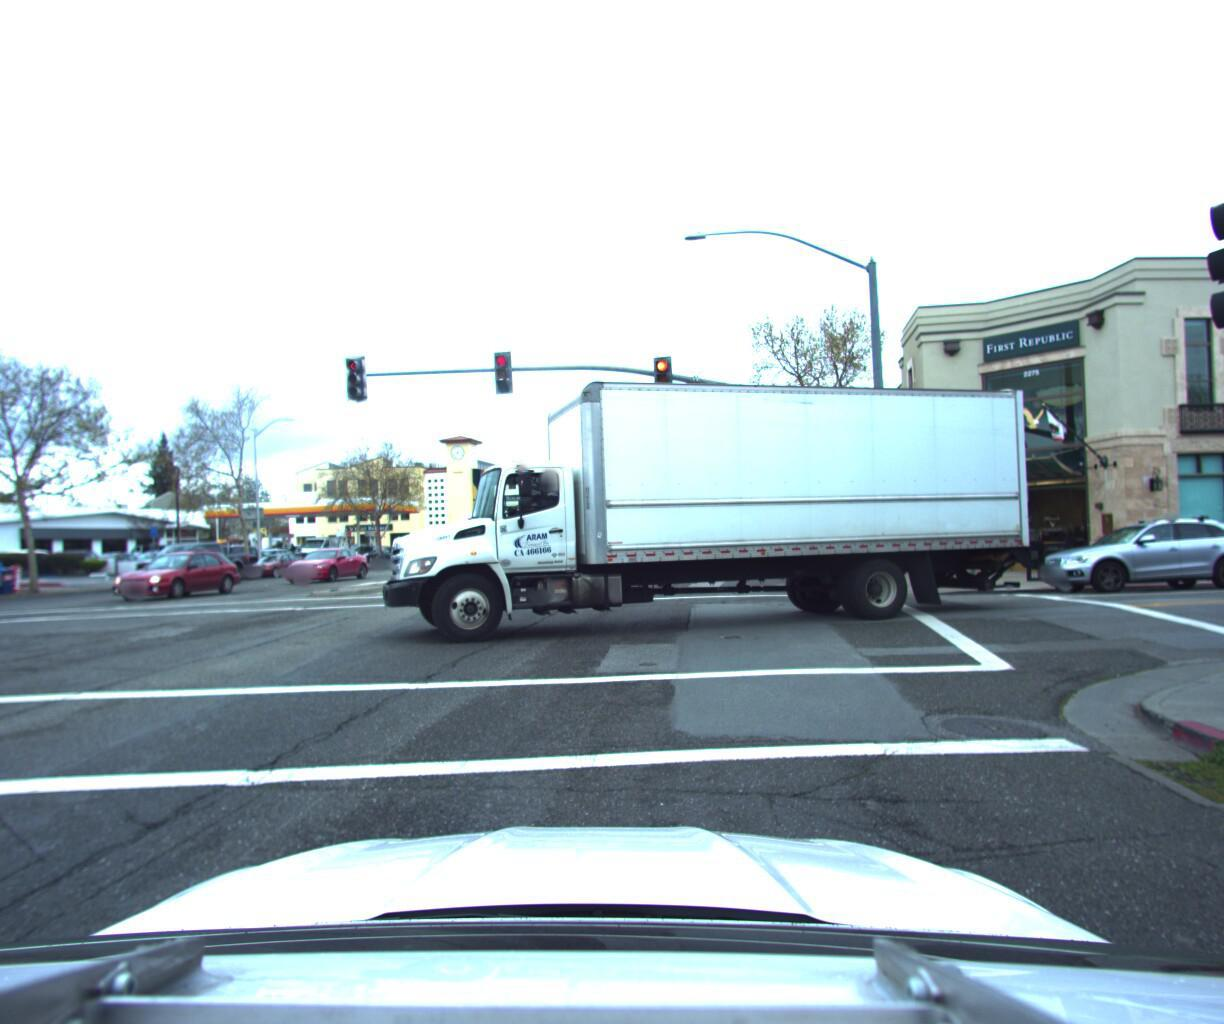car: (1020, 519, 1224, 602), (110, 554, 251, 608), (146, 552, 266, 596), (277, 552, 378, 592), (241, 559, 314, 588), (112, 547, 181, 575), (206, 539, 259, 564), (300, 543, 349, 569), (372, 554, 420, 577)
truck: (360, 357, 1058, 669)
